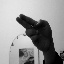h: (15, 12, 55, 51)
